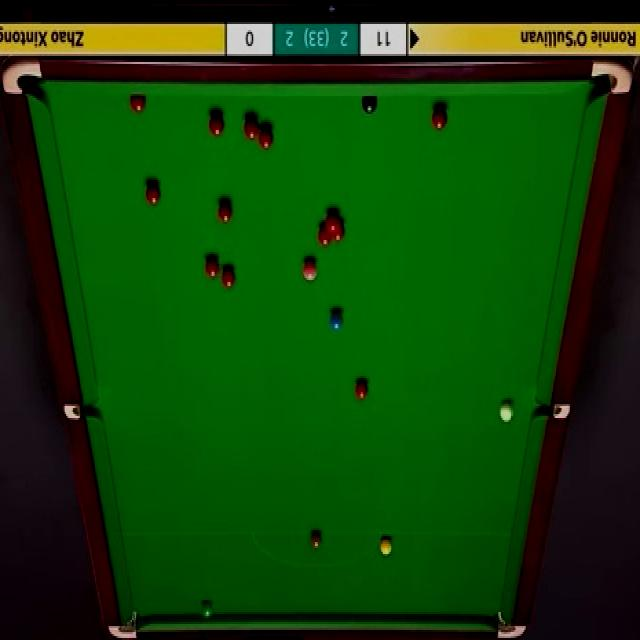black-ball: (360, 94, 378, 115)
blue-ball: (328, 311, 344, 332)
brown-ball: (310, 532, 322, 552)
green-ball: (201, 600, 214, 618)
pink-ball: (301, 256, 318, 281)
red-ball: (243, 114, 259, 143), (205, 252, 221, 281), (432, 105, 449, 132), (208, 110, 225, 136), (220, 265, 236, 291), (258, 124, 274, 150), (218, 200, 233, 226), (144, 182, 160, 206), (332, 218, 346, 242), (318, 222, 331, 246), (129, 97, 147, 114), (324, 210, 340, 229), (355, 380, 368, 401)
white-ball: (498, 400, 515, 422)
yellow-ball: (381, 538, 393, 554)
